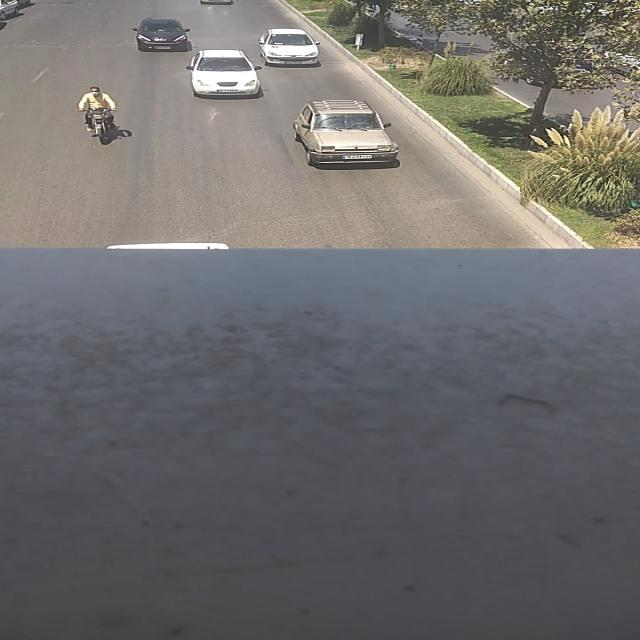car: (290, 98, 402, 168), (186, 49, 264, 99), (256, 29, 322, 66), (133, 18, 191, 50)
motor: (75, 86, 121, 144)
